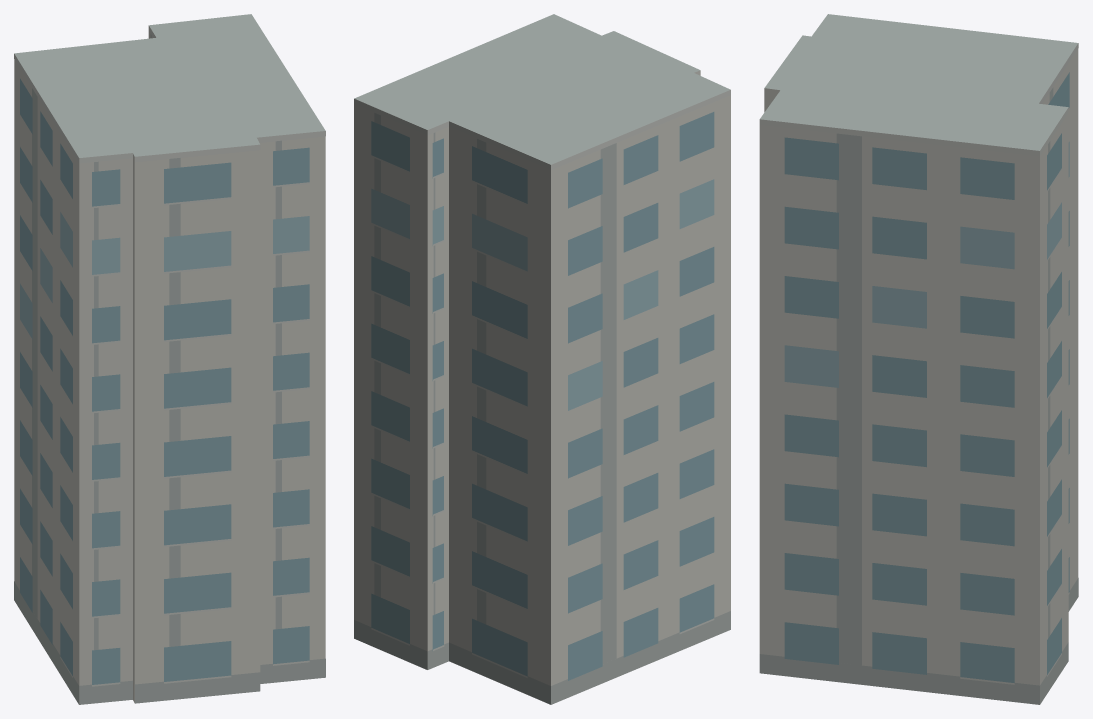
Rendered from residential-9843c527-317f-4674-a68c-0704024946c2.glb.
The picture shows the model from 3 angles, left to right: view 1: azimuth 30°, elevation 25°; view 2: azimuth 150°, elevation 25°; view 3: azimuth 270°, elevation 25°; orthographic projection. The views are drawn at different scales.
Visible parts, largest first — view 1: residential-9843c527-317f-4674-a68c-0704024946c2.tmp; view 2: residential-9843c527-317f-4674-a68c-0704024946c2.tmp; view 3: residential-9843c527-317f-4674-a68c-0704024946c2.tmp.
Boxes of the visible parts, x1=… form: residential-9843c527-317f-4674-a68c-0704024946c2.tmp: x1=14, y1=14, x2=325, y2=704; residential-9843c527-317f-4674-a68c-0704024946c2.tmp: x1=354, y1=14, x2=730, y2=704; residential-9843c527-317f-4674-a68c-0704024946c2.tmp: x1=759, y1=14, x2=1078, y2=704.
Size of the model in its own units: 12.94 by 24.4 by 12.74.
